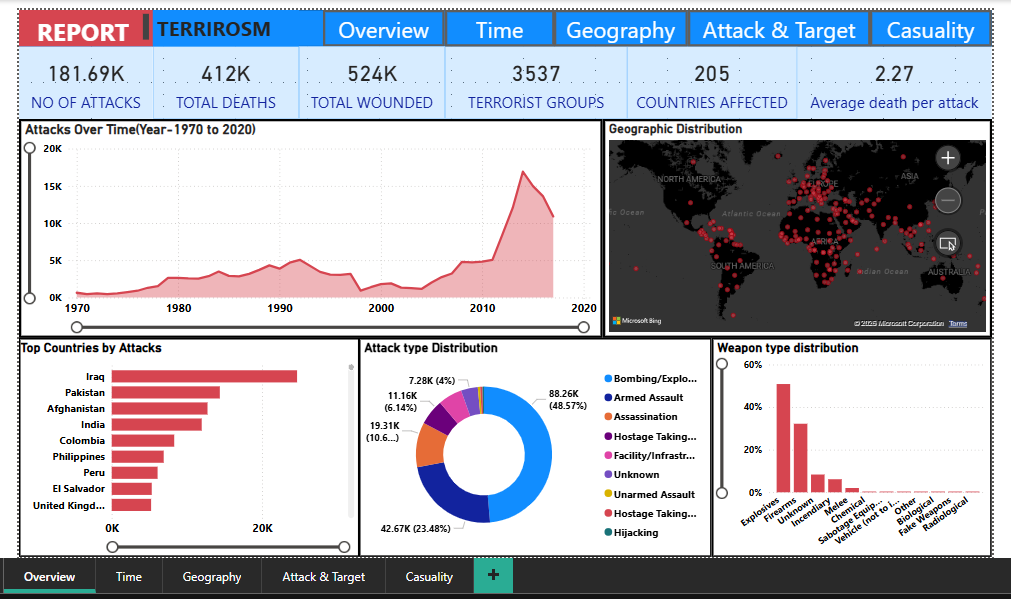

What the dashboard file says about the page in this screenshot:
{"tool":"powerbi","page":{"name":"Overview","canvas":[1280,720],"ordinal":0},"visuals":[{"type":"shape","box":[0,0,1280,48],"z":0},{"type":"textbox","box":[0,0,176,48],"z":1000},{"type":"actionButton","box":[400,0,160,48],"z":2000},{"type":"card","fields":{"Values":["CountNonNull(globalterrorismdb_0718dist.eventid)"]},"box":[0,48,176,96],"z":3000},{"type":"card","fields":{"Values":["Sum(globalterrorismdb_0718dist.nkill)"]},"box":[176,48,192,96],"z":4000},{"type":"card","fields":{"Values":["Sum(globalterrorismdb_0718dist.nwound)"]},"box":[368,48,192,96],"z":5000},{"type":"card","fields":{"Values":["Count(globalterrorismdb_0718dist.country)"]},"box":[800,48,224,96],"z":6000},{"type":"card","fields":{"Values":["Count(globalterrorismdb_0718dist.gname)"]},"box":[560,48,240,96],"z":7000},{"type":"card","fields":{"Values":["globalterrorismdb_0718dist.Average death per attack"]},"box":[1024,48,256,96],"z":8000},{"type":"lineChart","title":"Attacks Over Time(Year-1970 to 2020)","fields":{"Category":["globalterrorismdb_0718dist.iyear"],"Y":["CountNonNull(globalterrorismdb_0718dist.eventid)"]},"box":[0,144,768,288],"z":9000},{"type":"map","title":"Geographic Distribution","fields":{"Category":["globalterrorismdb_0718dist.country_txt","globalterrorismdb_0718dist.city"]},"box":[768,144,512,288],"z":10000},{"type":"clusteredBarChart","title":"Top Countries by Attacks","fields":{"Y":["CountNonNull(globalterrorismdb_0718dist.eventid)"],"Category":["globalterrorismdb_0718dist.country_txt"]},"box":[0,432,448,288],"z":11000},{"type":"donutChart","title":"Attack type Distribution","fields":{"Category":["globalterrorismdb_0718dist.attacktype1_txt"],"Y":["CountNonNull(globalterrorismdb_0718dist.attacktype1_txt)"]},"box":[448,432,464,288],"z":12000},{"type":"clusteredColumnChart","title":"Weapon type distribution","fields":{"Category":["globalterrorismdb_0718dist.weaptype1_txt"],"Y":["globalterrorismdb_0718dist.Weapon Percentage"]},"box":[912,432,368,288],"z":13000},{"type":"textbox","box":[176,0,192,48],"z":14000},{"type":"actionButton","box":[560,0,144,48],"z":15000},{"type":"actionButton","box":[704,0,176,48],"z":16000},{"type":"actionButton","box":[880,0,240,48],"z":17000},{"type":"actionButton","box":[1120,0,160,48],"z":18000}]}

Visuals, with their boxes on the page's 1280x720 design canvas (x1, y1, x2, y2). These are canvas units, not pixel positions in the 1011x599 screenshot, which may show the page scaled, cropped or inside an application window:
shape: [left=0, top=0, right=1280, bottom=48]
textbox: [left=0, top=0, right=176, bottom=48]
actionButton: [left=400, top=0, right=560, bottom=48]
card - CountNonNull(globalterrorismdb_0718dist.eventid): [left=0, top=48, right=176, bottom=144]
card - Sum(globalterrorismdb_0718dist.nkill): [left=176, top=48, right=368, bottom=144]
card - Sum(globalterrorismdb_0718dist.nwound): [left=368, top=48, right=560, bottom=144]
card - Count(globalterrorismdb_0718dist.country): [left=800, top=48, right=1024, bottom=144]
card - Count(globalterrorismdb_0718dist.gname): [left=560, top=48, right=800, bottom=144]
card - globalterrorismdb_0718dist.Average death per attack: [left=1024, top=48, right=1280, bottom=144]
"Attacks Over Time(Year-1970 to 2020)" lineChart: [left=0, top=144, right=768, bottom=432]
"Geographic Distribution" map: [left=768, top=144, right=1280, bottom=432]
"Top Countries by Attacks" clusteredBarChart: [left=0, top=432, right=448, bottom=720]
"Attack type Distribution" donutChart: [left=448, top=432, right=912, bottom=720]
"Weapon type distribution" clusteredColumnChart: [left=912, top=432, right=1280, bottom=720]
textbox: [left=176, top=0, right=368, bottom=48]
actionButton: [left=560, top=0, right=704, bottom=48]
actionButton: [left=704, top=0, right=880, bottom=48]
actionButton: [left=880, top=0, right=1120, bottom=48]
actionButton: [left=1120, top=0, right=1280, bottom=48]
